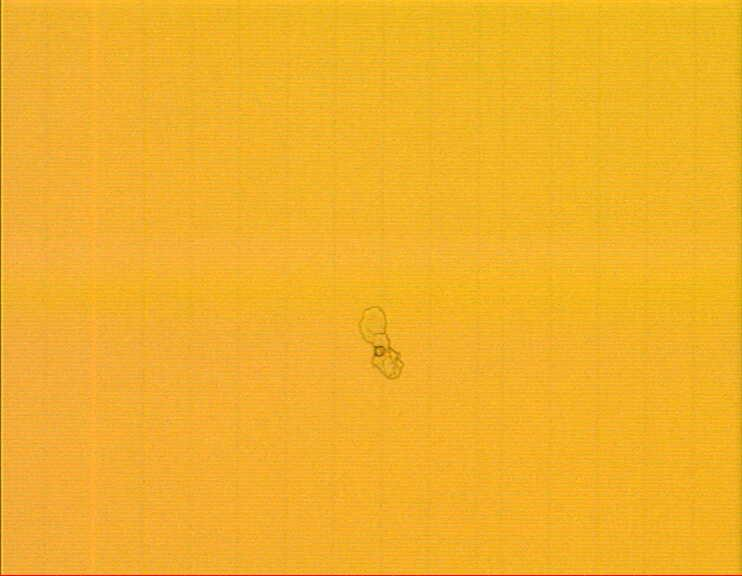PIQ PARTICLE: (354, 304, 412, 385)
